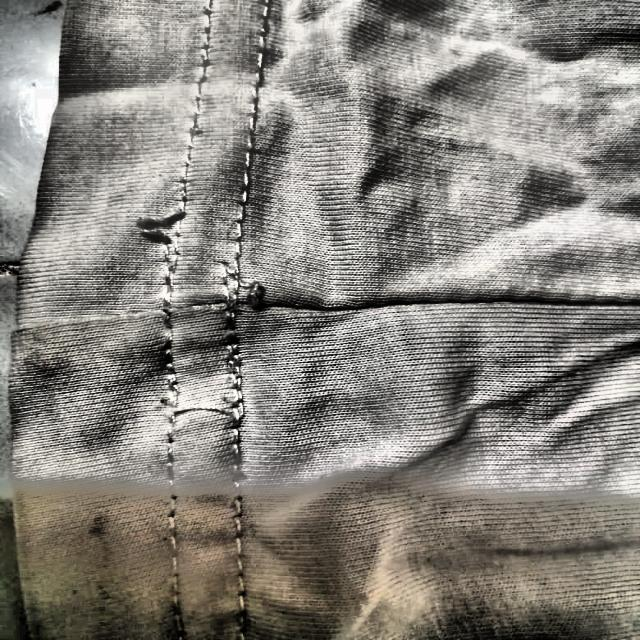Stitch: (96, 188, 197, 274), (218, 264, 311, 335), (154, 387, 271, 431)
